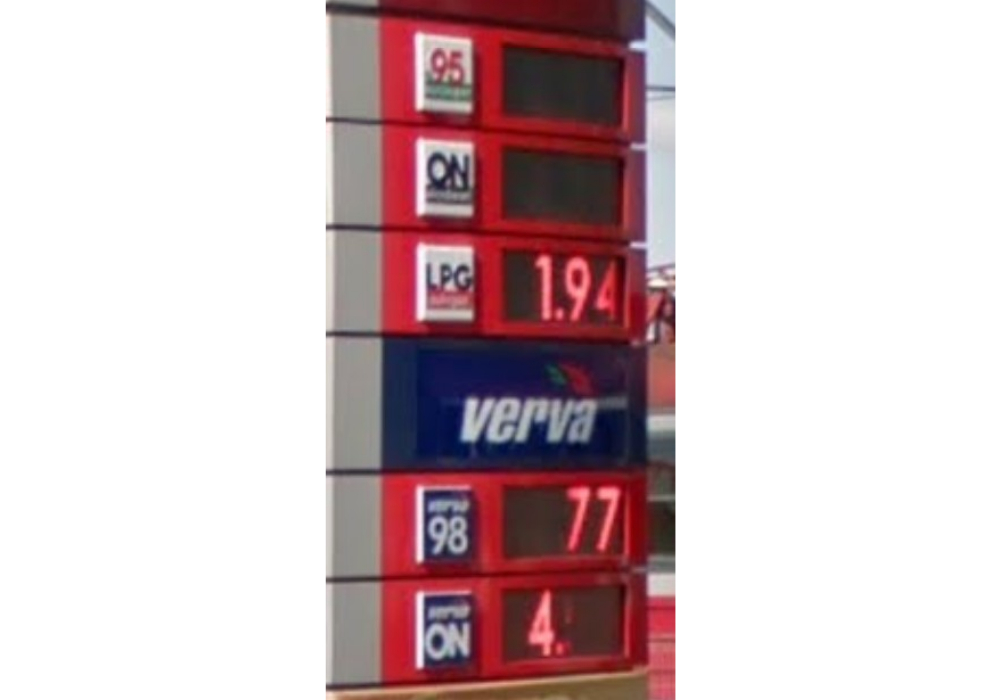LPG: (411, 238, 478, 327)
ON: (411, 134, 478, 221), (412, 588, 476, 668)
PB95: (410, 28, 479, 118)
PB98: (411, 481, 476, 565)
